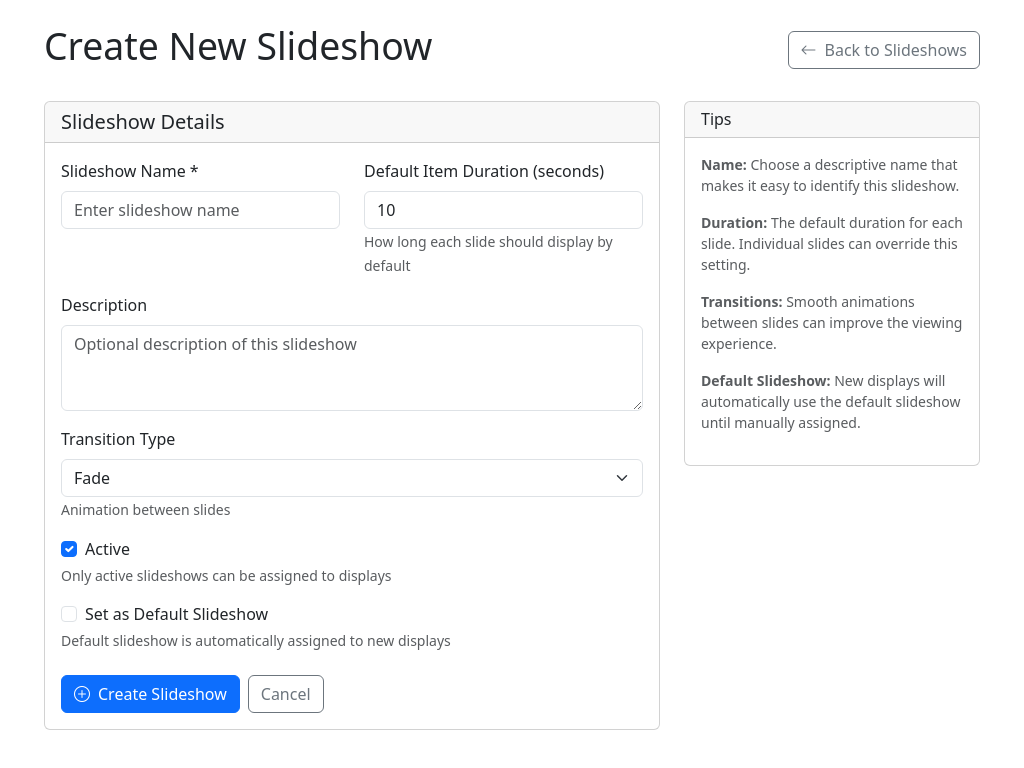
SlideshowForm › handles validation errors
# Submit empty form
Click the button "Create Slideshow": (150, 694) [61,675,240,713]
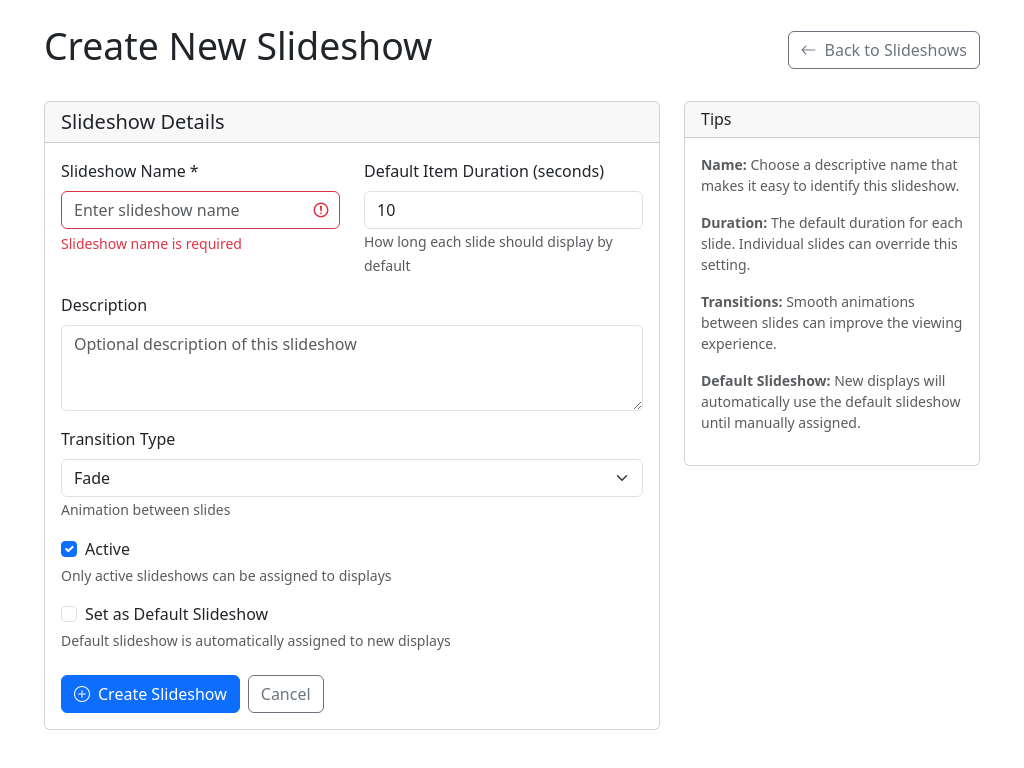
Expected: the text "Slideshow name is required" is shown, [61,234,242,253]
